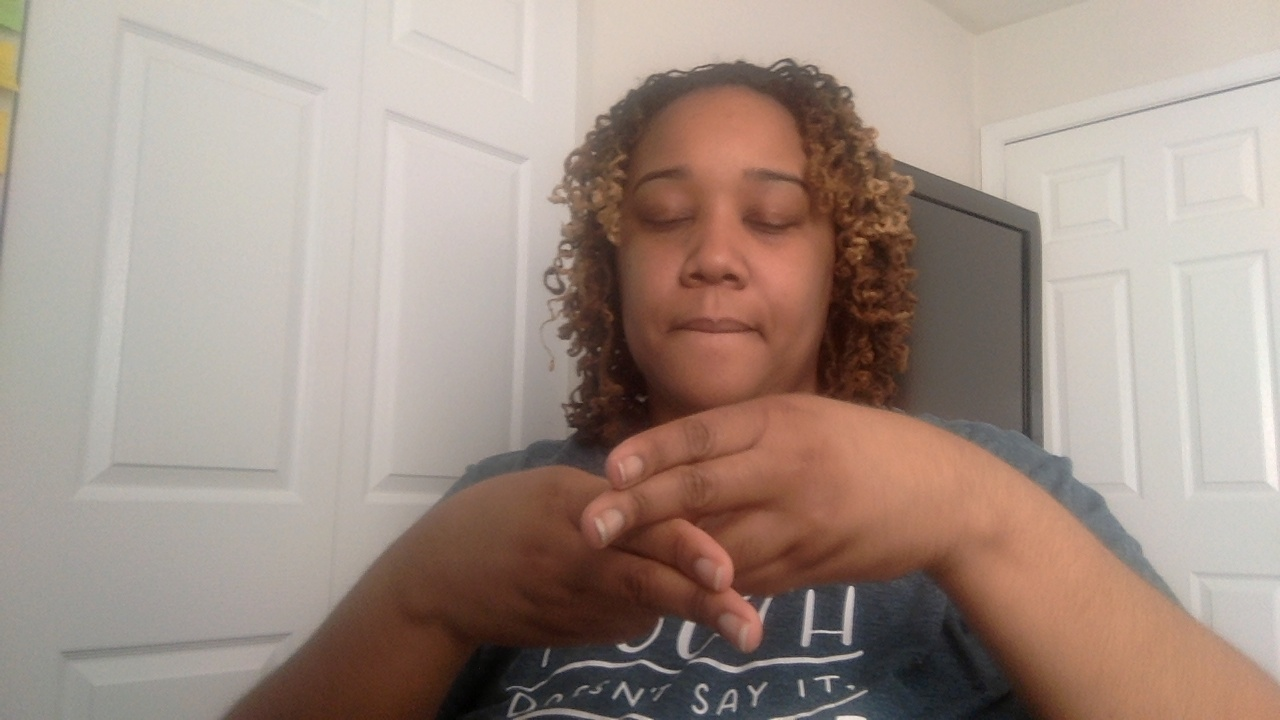name: (370, 390, 1017, 666)
